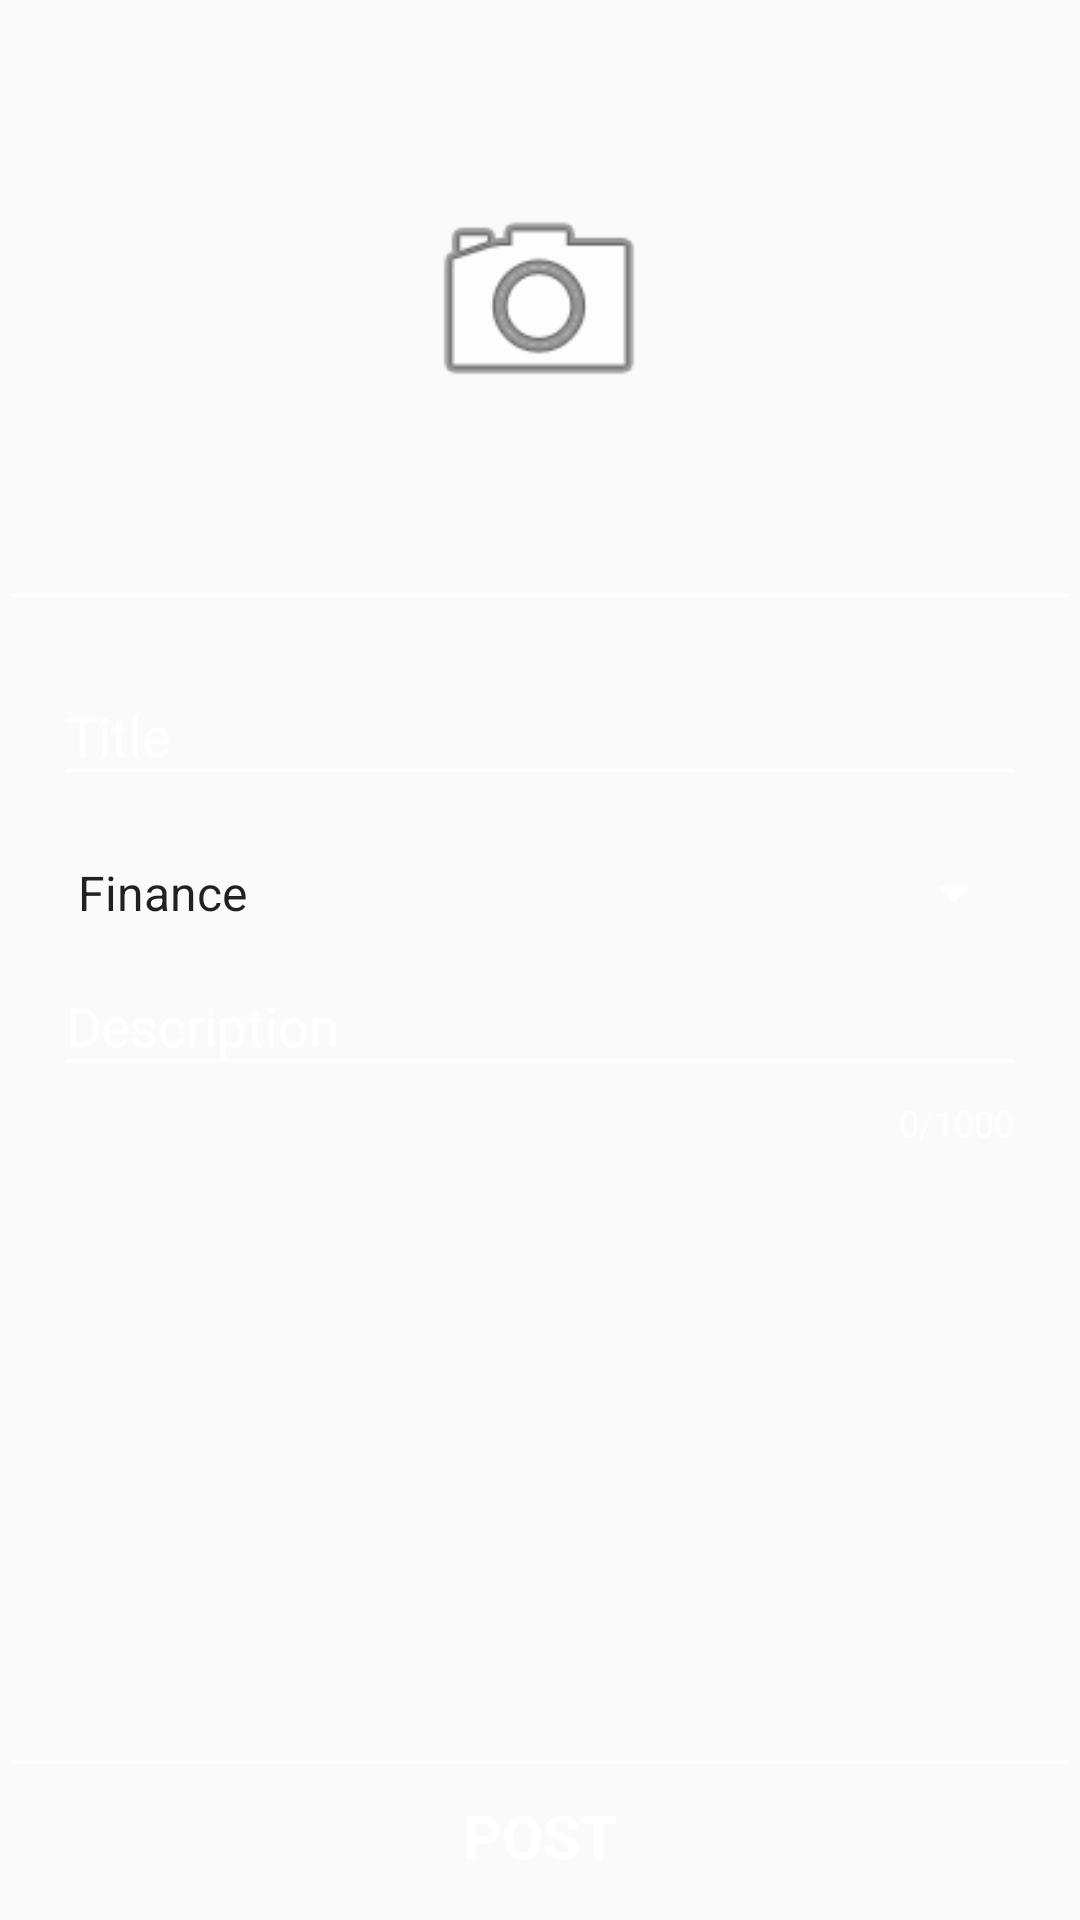

Named icons in this screenshot (1080*1920) and their centers, [x,y]:
camera: [539,298]
